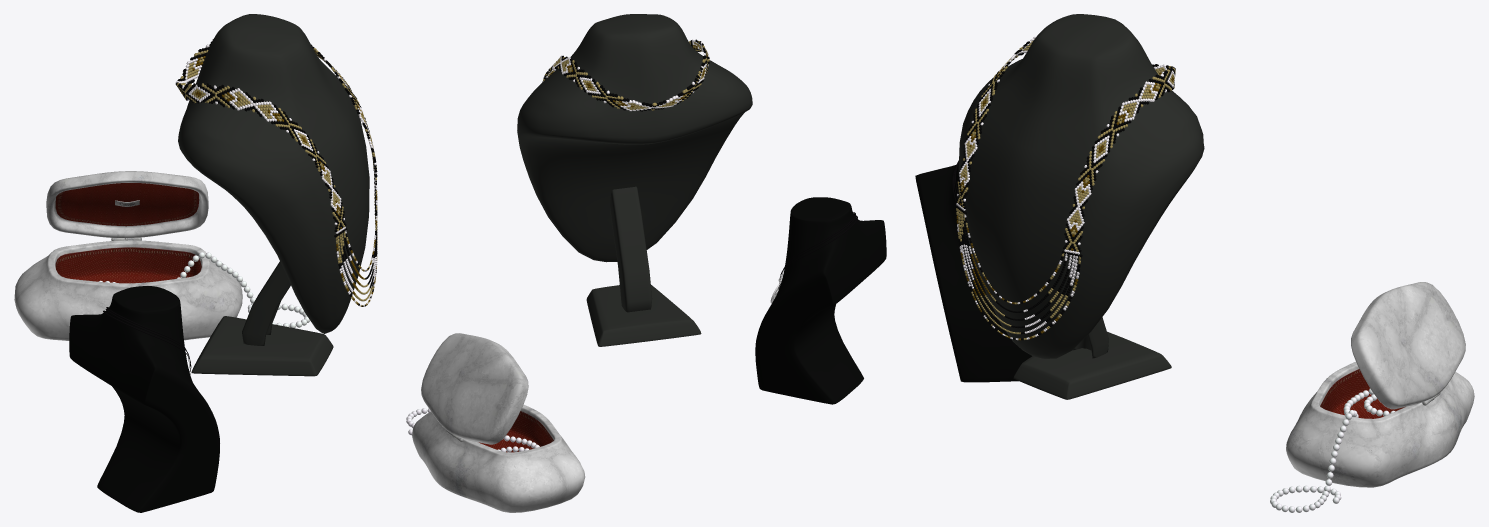
File: jewelries-transformed.glb
The picture shows the model from 3 angles, left to right: view 1: azimuth 30°, elevation 25°; view 2: azimuth 150°, elevation 25°; view 3: azimuth 270°, elevation 25°; orthographic projection. The views are drawn at different scales.
Parts seen in each view (by area): view 1: pasted__pasted__pPlatonic7854_BLACK_0, Box_jewelry_Box_2_0, Pearls_Pearl_Necklace_0; view 2: pasted__pasted__pPlatonic7854_BLACK_0, Box_jewelry_Box_2_0, Pearls_Pearl_Necklace_0; view 3: pasted__pasted__pPlatonic7854_BLACK_0, Box_jewelry_Box_2_0, Pearls_Pearl_Necklace_0.
Part boxes in pixels (x1=…): pasted__pasted__pPlatonic7854_BLACK_0: x1=69, y1=14, x2=377, y2=512; Box_jewelry_Box_2_0: x1=14, y1=171, x2=242, y2=340; Pearls_Pearl_Necklace_0: x1=99, y1=252, x2=309, y2=328; pasted__pasted__pPlatonic7854_BLACK_0: x1=517, y1=14, x2=886, y2=404; Box_jewelry_Box_2_0: x1=412, y1=333, x2=585, y2=512; Pearls_Pearl_Necklace_0: x1=406, y1=408, x2=539, y2=452; pasted__pasted__pPlatonic7854_BLACK_0: x1=915, y1=14, x2=1204, y2=399; Box_jewelry_Box_2_0: x1=1286, y1=282, x2=1474, y2=487; Pearls_Pearl_Necklace_0: x1=1270, y1=388, x2=1395, y2=512.
Size of the model in its own units: 2.68 by 2.9 by 3.57.
5 materials, 4 textured.
